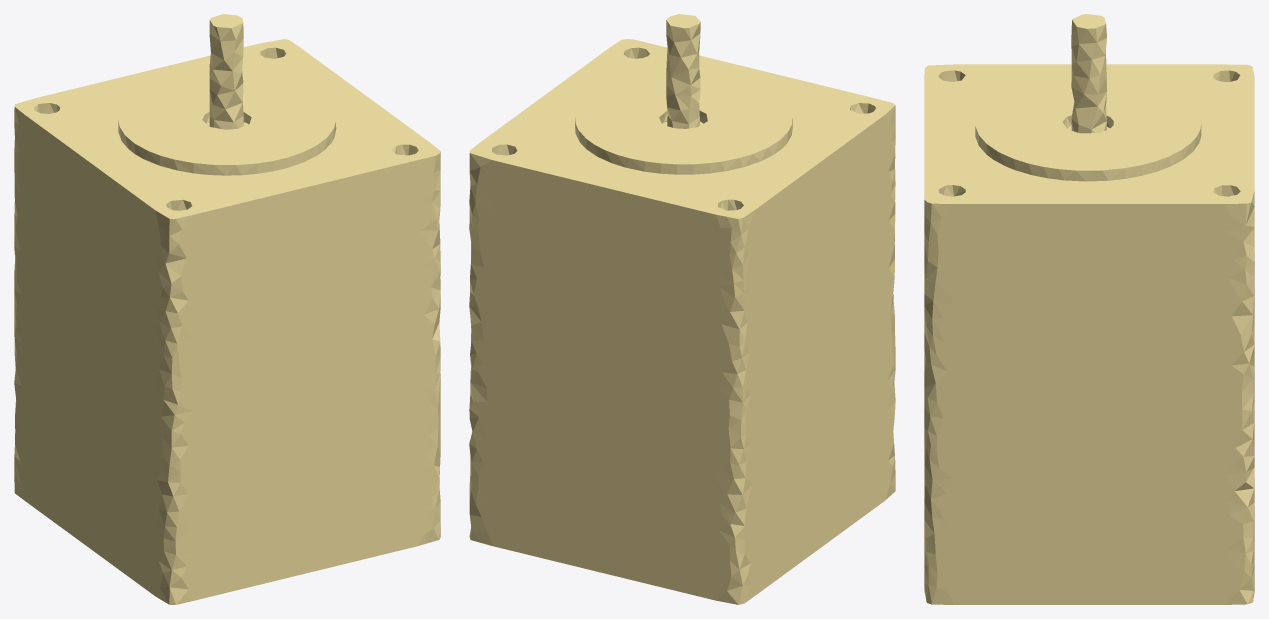
The model's file is input.gltf.
3 renders of one model, left to right at view 1: azimuth 30°, elevation 25°; view 2: azimuth 150°, elevation 25°; view 3: azimuth 270°, elevation 25°, orthographic. The views are drawn at different scales.
Parts seen in each view (by area): view 1: Renderer Node; view 2: Renderer Node; view 3: Renderer Node.
Part boxes in pixels (x1,y1,x2,y2): Renderer Node: (14, 14, 440, 604); Renderer Node: (469, 14, 895, 604); Renderer Node: (924, 14, 1254, 604).
Size of the model in its own units: 0.4375 by 0.75 by 0.4378.
